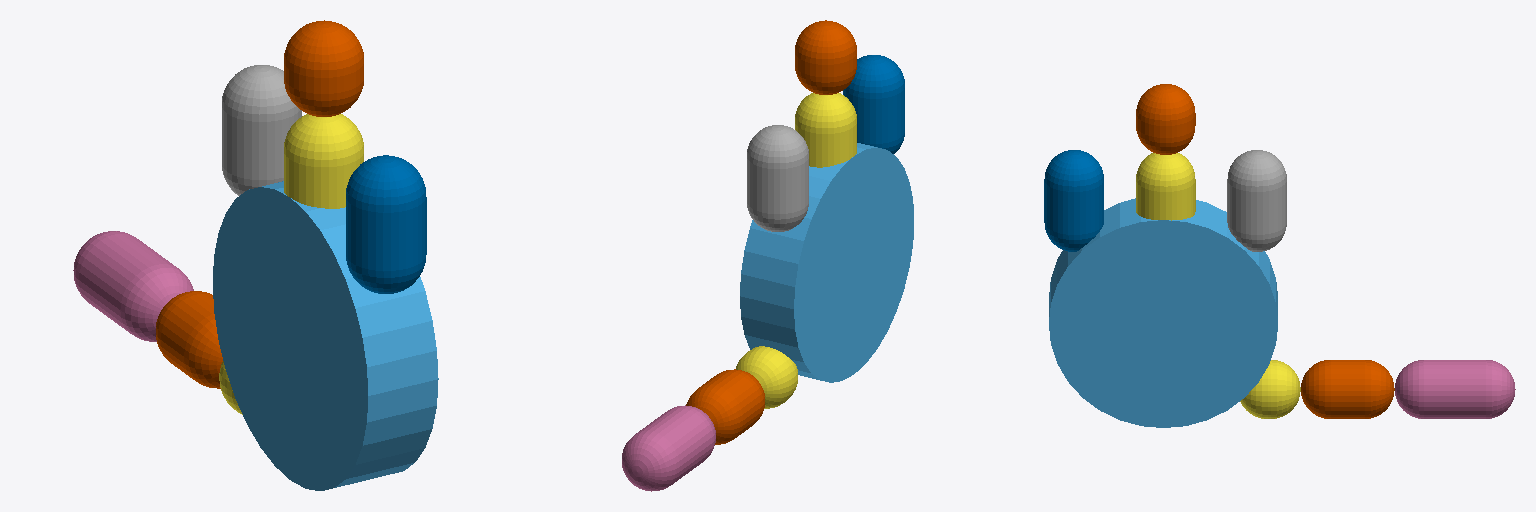
The robot description file, URDF, robot "DexterousHand":
<?xml version="1.0"?>
<robot name="DexterousHand">


    <link name="world"/>
    <joint name="world_to_palm" type="fixed">
        <parent link="world"/>
        <child link="palm"/>
        <origin xyz="0 0 0" rpy="0 0 0"/>
    </joint>
    <link name="palm">
        <inertial>
            <origin xyz="0 0 0.057" rpy="0 0 0"/>
            <mass value="0.30212892864"/>
            <inertia ixx="0.00049080844457568" ixy="0.0" ixz="0.0" iyy="0.00026746366246427523" iyz="0.0" izz="0.00026746366246427523"/>
        </inertial>
        <visual>
            <origin xyz="0 0 0.057" rpy="1.5708 0 1.5708"/>
            <geometry>
                <cylinder radius="0.057" length="0.0296"/>
            </geometry>
            <material name="default"/>
        </visual>
        <collision>
            <origin xyz="0 0 0.057" rpy="1.5708 0 1.5708"/>
            <geometry>
                <cylinder radius="0.057" length="0.0296"/>
            </geometry>
        </collision>
    </link>

    
    <joint name="thumb_joint1" type="revolute">
        <parent link="palm"/>
        <child link="thumb_base"/>
        <origin xyz="0.0029 0.0368 0.0157" rpy="-1.5708 -1.5708 0.0"/>
        <axis xyz="-1 0 0"/>
        <limit lower="-0.349" upper="2.094" effort="1.0" velocity="1.0"/>
    </joint>

    <link name="thumb_base"></link>

    <joint name="thumb_joint2" type="revolute">
        <parent link="thumb_base"/>
        <child link="thumb_proximal"/>
        <origin xyz="0.0 0.0 0.0" rpy="0.0 0.0 0.0"/>
        <axis xyz="0 0 1"/>
        <limit lower="-0.47" upper="2.443" effort="1.0" velocity="1.0"/>
    </joint>

    <link name="thumb_proximal">
        <inertial>
            <origin xyz="0 0 0.01565" rpy="0 0 0"/>
            <mass value="0.021538658803200002"/>
            <inertia ixx="2.9378910096388167e-06" ixy="0.0" ixz="0.0" 
            iyy="2.9378910096388167e-06" iyz="0.0" izz="2.358913912126464e-06"/>
        </inertial>
        <visual>
            <origin xyz="0 0 0.01565" rpy="0 0 0"/>
            <geometry>
                <cylinder radius="0.0148" length="0.0017000000000000001"/>
            </geometry>
            <material name="default"/>
        </visual>
        <visual>
            <origin xyz="0 0 0.0148" rpy="0 0 0"/>
            <geometry>
                <sphere radius="0.0148"/>
            </geometry>
            <material name="default"/>
        </visual>
        <visual>
            <origin xyz="0 0 0.0165" rpy="0 0 0"/>
            <geometry>
                <sphere radius="0.0148"/>
            </geometry>
            <material name="default"/>
        </visual>
        <collision>
            <origin xyz="0 0 0.01565" rpy="0 0 0"/>
            <geometry>
                <cylinder radius="0.0148" length="0.0017000000000000001"/>
            </geometry>
        </collision>
        <collision>
            <origin xyz="0 0 0.0148" rpy="0 0 0"/>
            <geometry>
                <sphere radius="0.0148"/>
            </geometry>
        </collision>
        <collision>
            <origin xyz="0 0 0.0165" rpy="0 0 0"/>
            <geometry>
                <sphere radius="0.0148"/>
            </geometry>
        </collision>
    </link>

    <joint name="thumb_joint3" type="revolute">
        <parent link="thumb_proximal"/>
        <child link="thumb_knuckle"/>
        <origin xyz="0.0 0.0 0.0313" rpy="0.0 0.0 0.0"/>
        <axis xyz="1 0 0"/>
        <limit lower="0.0" upper="0.0" effort="1.0" velocity="1.0"/>
    </joint>

    <link name="thumb_knuckle"></link>

    <joint name="thumb_joint4" type="revolute">
        <parent link="thumb_knuckle"/>
        <child link="thumb_middle"/>
        <origin xyz="0 0 0" rpy="0 0 0"/> 
        <axis xyz="0 1 0"/>
        <limit lower="-1.2" upper="1.9" effort="1.0" velocity="1.0"/>
    </joint>

    <link name="thumb_middle">
        <inertial>
            <origin xyz="0 0 0.0233" rpy="0 0 0"/>
            <mass value="0.032067140582400004"/>
            <inertia ixx="7.5589732685519385e-06" ixy="0.0" ixz="0.0" 
            iyy="7.5589732685519385e-06" iyz="0.0" izz="3.5119932365844485e-06"/>
        </inertial>
        <visual>
            <origin xyz="0 0 0.0233" rpy="0 0 0"/>
            <geometry>
                <cylinder radius="0.0148" length="0.017"/>
            </geometry>
            <material name="default"/>
        </visual>
        <visual>
            <origin xyz="0 0 0.0148" rpy="0 0 0"/>
            <geometry>
                <sphere radius="0.0148"/>
            </geometry>
            <material name="default"/>
        </visual>
        <visual>
            <origin xyz="0 0 0.0318" rpy="0 0 0"/>
            <geometry>
                <sphere radius="0.0148"/>
            </geometry>
            <material name="default"/>
        </visual>
        <collision>
            <origin xyz="0 0 0.0233" rpy="0 0 0"/>
            <geometry>
                <cylinder radius="0.0148" length="0.017"/>
            </geometry>
        </collision>
        <collision>
            <origin xyz="0 0 0.0148" rpy="0 0 0"/>
            <geometry>
                <sphere radius="0.0148"/>
            </geometry>
        </collision>
        <collision>
            <origin xyz="0 0 0.0318" rpy="0 0 0"/>
            <geometry>
                <sphere radius="0.0148"/>
            </geometry>
        </collision>
    </link>

    <joint name="thumb_joint5" type="revolute">
        <parent link="thumb_middle"/>
        <child link="thumb_distal"/>
        <origin xyz="0 0 0.0466" rpy="0 0 0"/> 
        <axis xyz="0 1 0"/>
        <limit lower="-1.34" upper="1.88" effort="1.0" velocity="1.0"/>
    </joint>

    <link name="thumb_distal">
        <inertial>
            <origin xyz="0 0 0.03" rpy="0 0 0"/>
            <mass value="0.04128816384"/>
            <inertia ixx="1.46473890038784e-05" ixy="0.0" ixz="0.0" 
            iyy="1.46473890038784e-05" iyz="0.0" izz="4.521879703756801e-06"/>
        </inertial>
        <visual>
            <origin xyz="0 0 0.03" rpy="0 0 0"/>
            <geometry>
                <cylinder radius="0.0148" length="0.030399999999999996"/>
            </geometry>
            <material name="default"/>
        </visual>
        <visual>
            <origin xyz="0 0 0.0148" rpy="0 0 0"/>
            <geometry>
                <sphere radius="0.0148"/>
            </geometry>
            <material name="default"/>
        </visual>
        <visual>
            <origin xyz="0 0 0.0452" rpy="0 0 0"/>
            <geometry>
                <sphere radius="0.0148"/>
            </geometry>
            <material name="default"/>
        </visual>
        <collision>
            <origin xyz="0 0 0.03" rpy="0 0 0"/>
            <geometry>
                <cylinder radius="0.0148" length="0.030399999999999996"/>
            </geometry>
        </collision>
        <collision>
            <origin xyz="0 0 0.0148" rpy="0 0 0"/>
            <geometry>
                <sphere radius="0.0148"/>
            </geometry>
        </collision>
        <collision>
            <origin xyz="0 0 0.0452" rpy="0 0 0"/>
            <geometry>
                <sphere radius="0.0148"/>
            </geometry>
        </collision>
    </link>

    
    <joint name="index_joint1" type="revolute">
        <parent link="palm"/>
        <child link="index_proximal"/>
        <origin xyz="0.0 0.0465 0.091" rpy="0.0 0.0 0.0"/>
        <axis xyz="0 1 0"/>
        <limit lower="-0.314" upper="2.23" effort="1.0" velocity="1.0"/>
    </joint>

    <link name="index_proximal">
        <inertial>
            <origin xyz="0 0 0.02655" rpy="0 0 0"/>
            <mass value="0.036540024998400006"/>
            <inertia ixx="1.058665009272394e-05" ixy="0.0" ixz="0.0" 
            iyy="1.058665009272394e-05" iyz="0.0" izz="4.001863537824769e-06"/>
        </inertial>
        <visual>
            <origin xyz="0 0 0.02655" rpy="0 0 0"/>
            <geometry>
                <cylinder radius="0.0148" length="0.0235"/>
            </geometry>
            <material name="default"/>
        </visual>
        <visual>
            <origin xyz="0 0 0.0148" rpy="0 0 0"/>
            <geometry>
                <sphere radius="0.0148"/>
            </geometry>
            <material name="default"/>
        </visual>
        <visual>
            <origin xyz="0 0 0.0383" rpy="0 0 0"/>
            <geometry>
                <sphere radius="0.0148"/>
            </geometry>
            <material name="default"/>
        </visual>
        <collision>
            <origin xyz="0 0 0.02655" rpy="0 0 0"/>
            <geometry>
                <cylinder radius="0.0148" length="0.0235"/>
            </geometry>
        </collision>
        <collision>
            <origin xyz="0 0 0.0148" rpy="0 0 0"/>
            <geometry>
                <sphere radius="0.0148"/>
            </geometry>
        </collision>
        <collision>
            <origin xyz="0 0 0.0383" rpy="0 0 0"/>
            <geometry>
                <sphere radius="0.0148"/>
            </geometry>
        </collision>
    </link>

    <joint name="index_joint2" type="revolute">
        <parent link="index_proximal"/>
        <child link="index_dummy"/>
        <origin xyz="0.0 0.0 0.038" rpy="0.0 0.0 0.0"/>
        <axis xyz="0 1 0"/>
        <limit lower="0.0" upper="0.0" effort="1.0" velocity="1.0"/>
    </joint>

    <link name="index_dummy"></link>

    <joint name="index_joint3" type="revolute">
        <parent link="index_dummy"/>
        <child link="index_middle"/>
        <origin xyz="0 0 0.015100000000000002" rpy="0 0 0"/>
        <axis xyz="0 1 0"/>
        <limit lower="0.0" upper="0.0" effort="1.0" velocity="1.0"/>
    </joint>

    <link name="index_middle">
    </link>

    <joint name="index_joint4" type="revolute">
        <parent link="index_middle"/>
        <child link="index_distal"/>
        <origin xyz="0 0 0" rpy="0 0 0"/> 
        <axis xyz="0 1 0"/>
        <limit lower="0.0" upper="0.0" effort="1.0" velocity="1.0"/>
    </joint>

    <link name="index_distal">
    </link>

    
    <joint name="middle_joint1" type="revolute">
        <parent link="palm"/>
        <child link="middle_proximal"/>
        <origin xyz="0.0 0.0011 0.091" rpy="0.0 0.0 0.0"/>
        <axis xyz="0 1 0"/>
        <limit lower="-0.314" upper="2.23" effort="1.0" velocity="1.0"/>
    </joint>

    <link name="middle_proximal">
        <inertial>
            <origin xyz="0 0 0.02655" rpy="0 0 0"/>
            <mass value="0.036540024998400006"/>
            <inertia ixx="1.058665009272394e-05" ixy="0.0" ixz="0.0" 
            iyy="1.058665009272394e-05" iyz="0.0" izz="4.001863537824769e-06"/>
        </inertial>
        <visual>
            <origin xyz="0 0 0.02655" rpy="0 0 0"/>
            <geometry>
                <cylinder radius="0.0148" length="0.0235"/>
            </geometry>
            <material name="default"/>
        </visual>
        <visual>
            <origin xyz="0 0 0.0148" rpy="0 0 0"/>
            <geometry>
                <sphere radius="0.0148"/>
            </geometry>
            <material name="default"/>
        </visual>
        <visual>
            <origin xyz="0 0 0.0383" rpy="0 0 0"/>
            <geometry>
                <sphere radius="0.0148"/>
            </geometry>
            <material name="default"/>
        </visual>
        <collision>
            <origin xyz="0 0 0.02655" rpy="0 0 0"/>
            <geometry>
                <cylinder radius="0.0148" length="0.0235"/>
            </geometry>
        </collision>
        <collision>
            <origin xyz="0 0 0.0148" rpy="0 0 0"/>
            <geometry>
                <sphere radius="0.0148"/>
            </geometry>
        </collision>
        <collision>
            <origin xyz="0 0 0.0383" rpy="0 0 0"/>
            <geometry>
                <sphere radius="0.0148"/>
            </geometry>
        </collision>
    </link>

    <joint name="middle_joint2" type="revolute">
        <parent link="middle_proximal"/>
        <child link="middle_dummy"/>
        <origin xyz="0.0 0.0 0.038" rpy="0.0 0.0 0.0"/>
        <axis xyz="1 0 0"/>
        <limit lower="-1.047" upper="1.047" effort="1.0" velocity="1.0"/>
    </joint>

    <link name="middle_dummy"></link>

    <joint name="middle_joint3" type="revolute">
        <parent link="middle_dummy"/>
        <child link="middle_middle"/>
        <origin xyz="0 0 0.015100000000000002" rpy="0 0 0"/>
        <axis xyz="0 1 0"/>
        <limit lower="-0.506" upper="1.885" effort="1.0" velocity="1.0"/>
    </joint>

    <link name="middle_middle">
        <inertial>
            <origin xyz="0 0 0.01805" rpy="0 0 0"/>
            <mass value="0.0248417119104"/>
            <inertia ixx="4.058162759109537e-06" ixy="0.0" ixz="0.0" 
            iyy="4.058162759109537e-06" iyz="0.0" izz="2.7206642884270085e-06"/>
        </inertial>
        <visual>
            <origin xyz="0 0 0.01805" rpy="0 0 0"/>
            <geometry>
                <cylinder radius="0.0148" length="0.006499999999999999"/>
            </geometry>
            <material name="default"/>
        </visual>
        <visual>
            <origin xyz="0 0 0.0148" rpy="0 0 0"/>
            <geometry>
                <sphere radius="0.0148"/>
            </geometry>
            <material name="default"/>
        </visual>
        <visual>
            <origin xyz="0 0 0.0213" rpy="0 0 0"/>
            <geometry>
                <sphere radius="0.0148"/>
            </geometry>
            <material name="default"/>
        </visual>
        <collision>
            <origin xyz="0 0 0.01805" rpy="0 0 0"/>
            <geometry>
                <cylinder radius="0.0148" length="0.006499999999999999"/>
            </geometry>
        </collision>
        <collision>
            <origin xyz="0 0 0.0148" rpy="0 0 0"/>
            <geometry>
                <sphere radius="0.0148"/>
            </geometry>
        </collision>
        <collision>
            <origin xyz="0 0 0.0213" rpy="0 0 0"/>
            <geometry>
                <sphere radius="0.0148"/>
            </geometry>
        </collision>
    </link>

    <joint name="middle_joint4" type="revolute">
        <parent link="middle_middle"/>
        <child link="middle_distal"/>
        <origin xyz="0 0 0.0361" rpy="0 0 0"/> 
        <axis xyz="0 1 0"/>
        <limit lower="0.0" upper="0.0" effort="1.0" velocity="1.0"/>
    </joint>

    <link name="middle_distal">
    </link>

    
    <joint name="ring_joint1" type="revolute">
        <parent link="palm"/>
        <child link="ring_proximal"/>
        <origin xyz="0.0 0.0 0.0" rpy="0.0 0.0 0.0"/>
        <axis xyz="1 0 0"/>
        <limit lower="0.0" upper="0.0" effort="1.0" velocity="1.0"/>
    </joint>

    <link name="ring_proximal">
    </link>

    <joint name="ring_joint2" type="revolute">
        <parent link="ring_proximal"/>
        <child link="ring_dummy"/>
        <origin xyz="0.0 0.0 0.0" rpy="0.0 0.0 0.0"/>
        <axis xyz="0 1 0"/>
        <limit lower="0.0" upper="0.0" effort="1.0" velocity="1.0"/>
    </joint>

    <link name="ring_dummy"></link>

    <joint name="ring_joint3" type="revolute">
        <parent link="ring_dummy"/>
        <child link="ring_middle"/>
        <origin xyz="0 0 0" rpy="0 0 0"/>
        <axis xyz="0 1 0"/>
        <limit lower="0.0" upper="0.0" effort="1.0" velocity="1.0"/>
    </joint>

    <link name="ring_middle">
    </link>

    <joint name="ring_joint4" type="revolute">
        <parent link="ring_middle"/>
        <child link="ring_distal"/>
        <origin xyz="0 0 0" rpy="0 0 0"/> 
        <axis xyz="0 1 0"/>
        <limit lower="0.0" upper="0.0" effort="1.0" velocity="1.0"/>
    </joint>

    <link name="ring_distal">
    </link>

    
    <joint name="little_joint0" type="revolute">
        <parent link="palm"/>
        <child link="little_base"/>
        <origin xyz="0.0 0.0 0.0" rpy="0.0 0.0 0.0"/>
        <axis xyz="0 1 0"/>
        <limit lower="0.0" upper="0.0" effort="1.0" velocity="1.0"/>
    </joint>

    <link name="little_base"></link>

    <joint name="little_joint1" type="revolute">
        <parent link="little_base"/>
        <child link="little_proximal"/>
        <origin xyz="0.0 -0.0443 0.091" rpy="-0.0 -0.0 -0.0"/>
        <axis xyz="0 1 0"/>
        <limit lower="-0.314" upper="2.23" effort="1.0" velocity="1.0"/>
    </joint>

    <link name="little_proximal">
        <inertial>
            <origin xyz="0 0 0.02655" rpy="0 0 0"/>
            <mass value="0.036540024998400006"/>
            <inertia ixx="1.058665009272394e-05" ixy="0.0" ixz="0.0" 
            iyy="1.058665009272394e-05" iyz="0.0" izz="4.001863537824769e-06"/>
        </inertial>
        <visual>
            <origin xyz="0 0 0.02655" rpy="0 0 0"/>
            <geometry>
                <cylinder radius="0.0148" length="0.0235"/>
            </geometry>
            <material name="default"/>
        </visual>
        <visual>
            <origin xyz="0 0 0.0148" rpy="0 0 0"/>
            <geometry>
                <sphere radius="0.0148"/>
            </geometry>
            <material name="default"/>
        </visual>
        <visual>
            <origin xyz="0 0 0.0383" rpy="0 0 0"/>
            <geometry>
                <sphere radius="0.0148"/>
            </geometry>
            <material name="default"/>
        </visual>
        <collision>
            <origin xyz="0 0 0.02655" rpy="0 0 0"/>
            <geometry>
                <cylinder radius="0.0148" length="0.0235"/>
            </geometry>
        </collision>
        <collision>
            <origin xyz="0 0 0.0148" rpy="0 0 0"/>
            <geometry>
                <sphere radius="0.0148"/>
            </geometry>
        </collision>
        <collision>
            <origin xyz="0 0 0.0383" rpy="0 0 0"/>
            <geometry>
                <sphere radius="0.0148"/>
            </geometry>
        </collision>
    </link>

    <joint name="little_joint2" type="revolute">
        <parent link="little_proximal"/>
        <child link="little_dummy"/>
        <origin xyz="0.0 0.0 0.038" rpy="0.0 0.0 0.0"/>
        <axis xyz="0 1 0"/>
        <limit lower="0.0" upper="0.0" effort="1.0" velocity="1.0"/>
    </joint>

    <link name="little_dummy"></link>

    <joint name="little_joint3" type="revolute">
        <parent link="little_dummy"/>
        <child link="little_middle"/>
        <origin xyz="0 0 0.015100000000000002" rpy="0 0 0"/>
        <axis xyz="0 1 0"/>
        <limit lower="0.0" upper="0.0" effort="1.0" velocity="1.0"/>
    </joint>

    <link name="little_middle">
    </link>

    <joint name="little_joint4" type="revolute">
        <parent link="little_middle"/>
        <child link="little_distal"/>
        <origin xyz="0 0 0" rpy="0 0 0"/>
        <axis xyz="0 1 0"/>
        <limit lower="0.0" upper="0.0" effort="1.0" velocity="1.0"/>
    </joint>

    <link name="little_distal">
    </link>

</robot>

--- What the picture shows (computed from the rendered views, not written in the file) ---
Views: 3 orthographic renders of the robot side by side, from view 1: azimuth 30°, elevation 25°; view 2: azimuth 150°, elevation 25°; view 3: azimuth 270°, elevation 25°.
Robot: DexterousHand — 24 links, 23 joints (22 revolute, 1 fixed); root link world; default pose: all joints at 0.
Links seen in each view (by area): view 1: palm, little_proximal, thumb_distal, index_proximal, middle_middle, middle_proximal, thumb_middle; view 2: palm, index_proximal, thumb_distal, little_proximal, middle_middle, middle_proximal, thumb_middle, thumb_proximal; view 3: palm, thumb_distal, index_proximal, little_proximal, thumb_middle, middle_proximal, middle_middle, thumb_proximal.
Boxes of the visible links, <box> form: palm: <box>213,181,438,490</box>; little_proximal: <box>346,155,426,293</box>; thumb_distal: <box>73,231,193,341</box>; index_proximal: <box>222,65,301,195</box>; middle_middle: <box>284,20,363,116</box>; middle_proximal: <box>284,114,363,208</box>; thumb_middle: <box>156,291,222,388</box>; palm: <box>740,143,913,382</box>; index_proximal: <box>747,125,808,231</box>; thumb_distal: <box>622,405,715,491</box>; little_proximal: <box>843,55,904,153</box>; middle_middle: <box>795,20,856,94</box>; middle_proximal: <box>795,93,856,167</box>; thumb_middle: <box>686,369,764,444</box>; thumb_proximal: <box>736,346,797,408</box>; palm: <box>1049,198,1277,427</box>; thumb_distal: <box>1395,360,1515,418</box>; index_proximal: <box>1227,150,1286,251</box>; little_proximal: <box>1044,150,1103,251</box>; thumb_middle: <box>1301,360,1394,418</box>; middle_proximal: <box>1136,153,1195,220</box>; middle_middle: <box>1136,84,1195,154</box>; thumb_proximal: <box>1240,360,1300,418</box>.
Size in the robot's own frame: 0.0325 by 0.2338 by 0.1802 metres.
Geometry: primitives only (box / cylinder / sphere), no mesh files.
